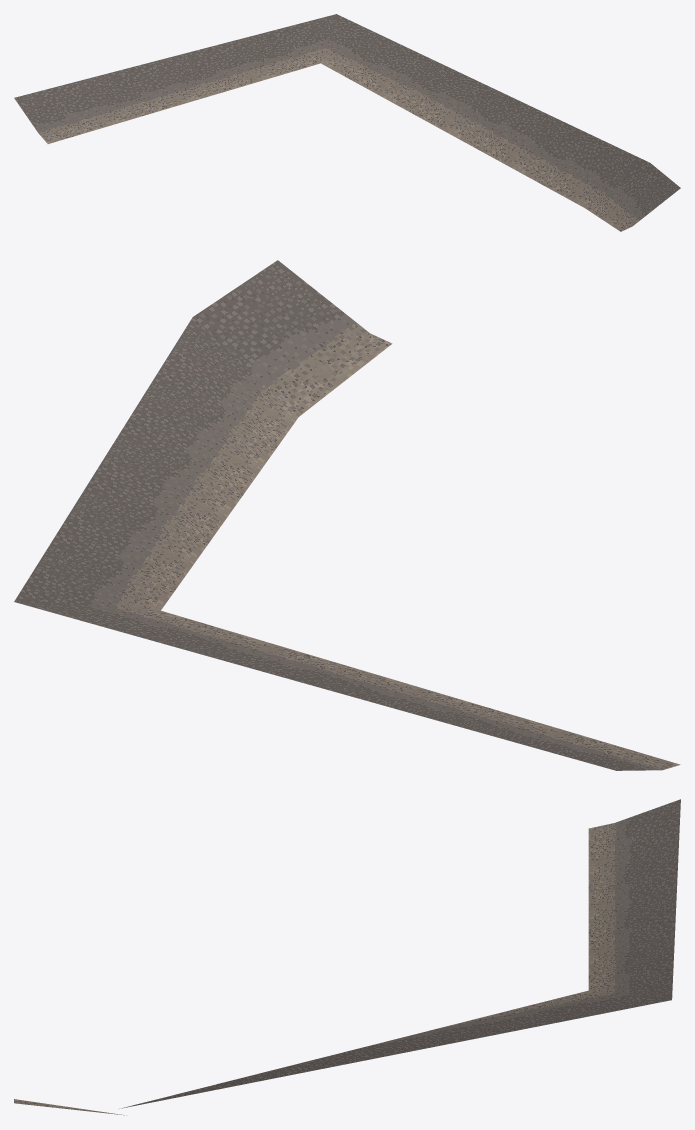
File: kd_stage_135b75_4_154_bounded_portal.glb
3 views of the same model, one above another, from view 1: azimuth 30°, elevation 25°; view 2: azimuth 150°, elevation 25°; view 3: azimuth 270°, elevation 25° (orthographic). The views are drawn at different scales.
Visible parts, largest first — view 1: kd_stage_135b75_4_154_bounded_portal; view 2: kd_stage_135b75_4_154_bounded_portal; view 3: kd_stage_135b75_4_154_bounded_portal.
Part boxes in pixels (x1,y1,x2,y2): kd_stage_135b75_4_154_bounded_portal: [14, 14, 680, 231]; kd_stage_135b75_4_154_bounded_portal: [14, 260, 680, 770]; kd_stage_135b75_4_154_bounded_portal: [14, 799, 680, 1115].
Size of the model in its own units: 0.9278 by 0.1254 by 0.9159.
Materials: 1 (1 with a texture image).
